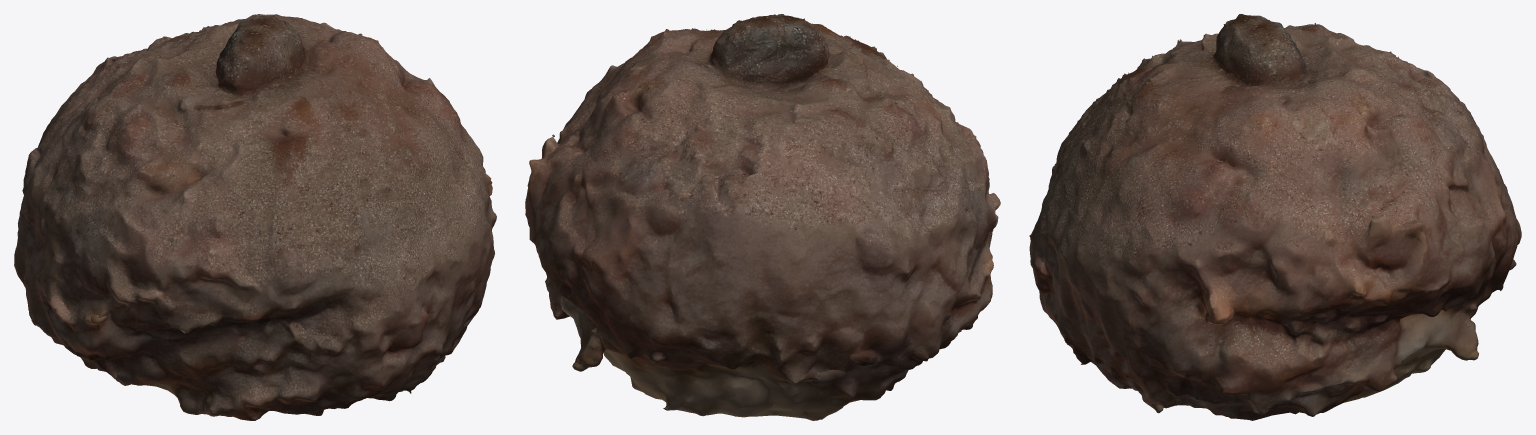
File: ノーマルおはぎ.fbx
3 views of the same model, side by side, from view 1: azimuth 30°, elevation 25°; view 2: azimuth 150°, elevation 25°; view 3: azimuth 270°, elevation 25° (orthographic).
Parts seen in each view (by area): view 1: おはぎ.001; view 2: おはぎ.001; view 3: おはぎ.001.
Boxes of the visible parts, x1,y1,x2,y2 form: おはぎ.001: [14, 14, 496, 420]; おはぎ.001: [525, 14, 1000, 420]; おはぎ.001: [1029, 14, 1521, 420].
Bounding box in the file's own units: 99.92 × 77.58 × 103.
Materials: 1 (1 with a texture image).
